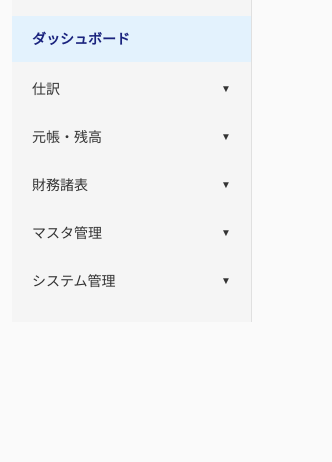
Test case: Sidebar role-based menu visibility › ADMIN role › renders system management and all privileged menus
Expected: the text "システム管理" is shown, [32, 273, 116, 289]
Expected: the text "仕訳" is shown, [32, 81, 60, 97]
What coordinates should you click on to do the following:
click the text "財務諸表"
I would click on:
 (60, 185)
Its box is [32, 177, 88, 193].
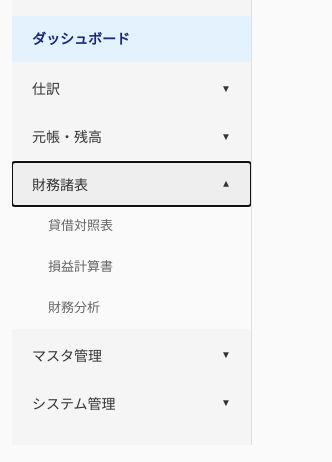
Expected: the link "財務分析" is shown, [48, 300, 100, 315]
